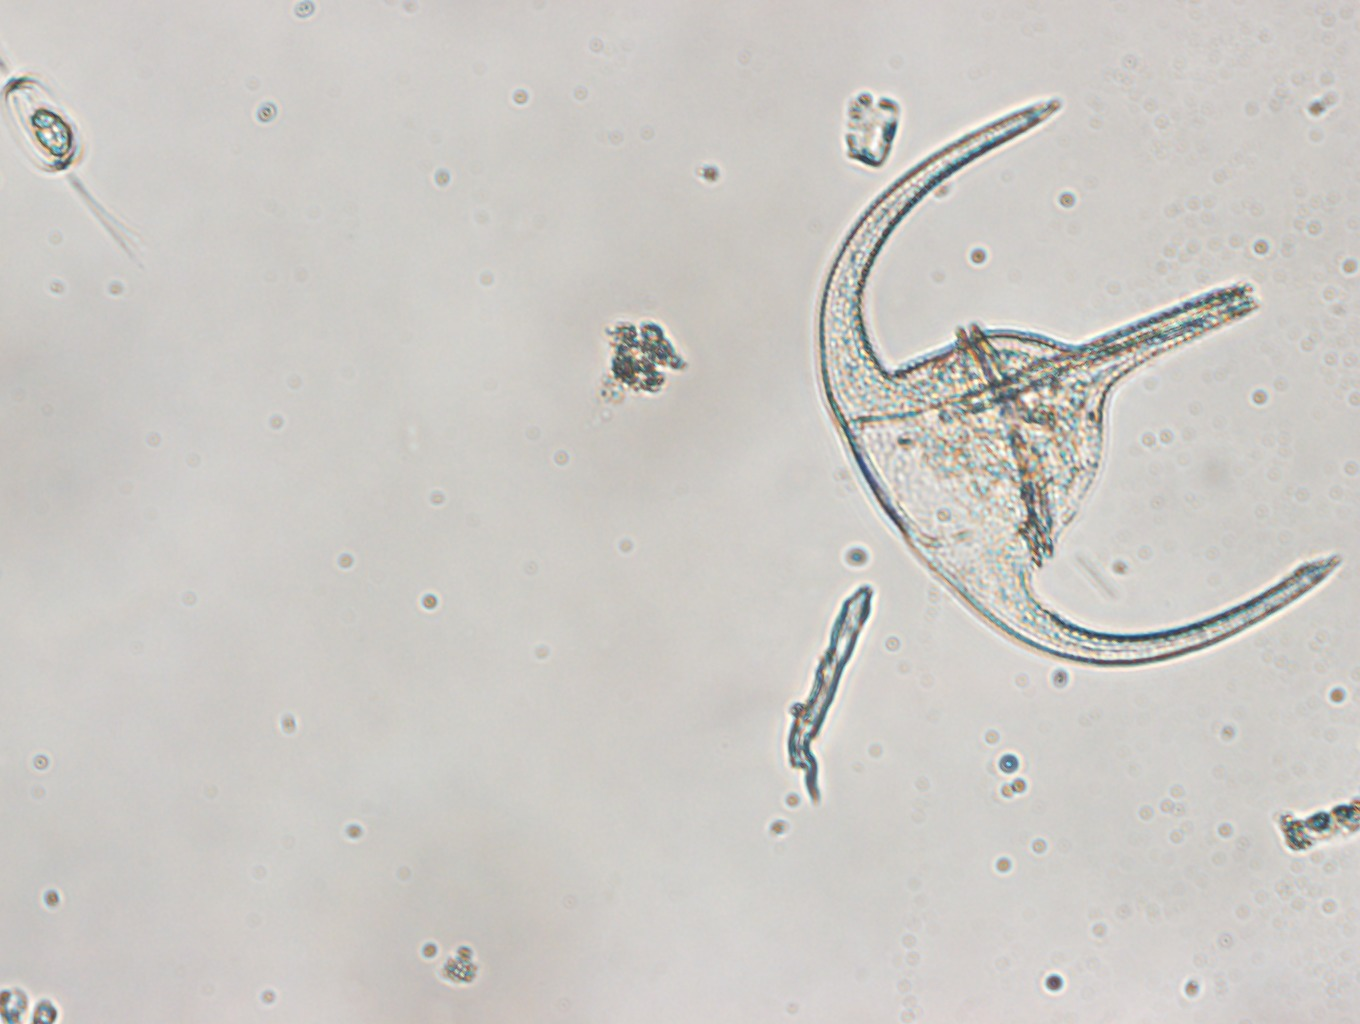ceratium tripos: (807, 70, 1347, 677)
